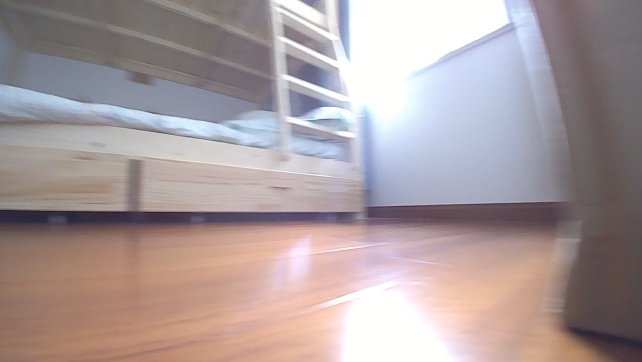bed: (0, 0, 370, 225)
